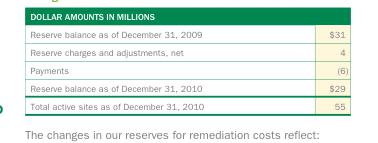table: (29, 28, 347, 111)
table column: (29, 28, 265, 111), (265, 28, 347, 111)
table row: (29, 43, 347, 61), (29, 61, 347, 79), (29, 79, 347, 97), (29, 28, 347, 43), (29, 97, 347, 111)
